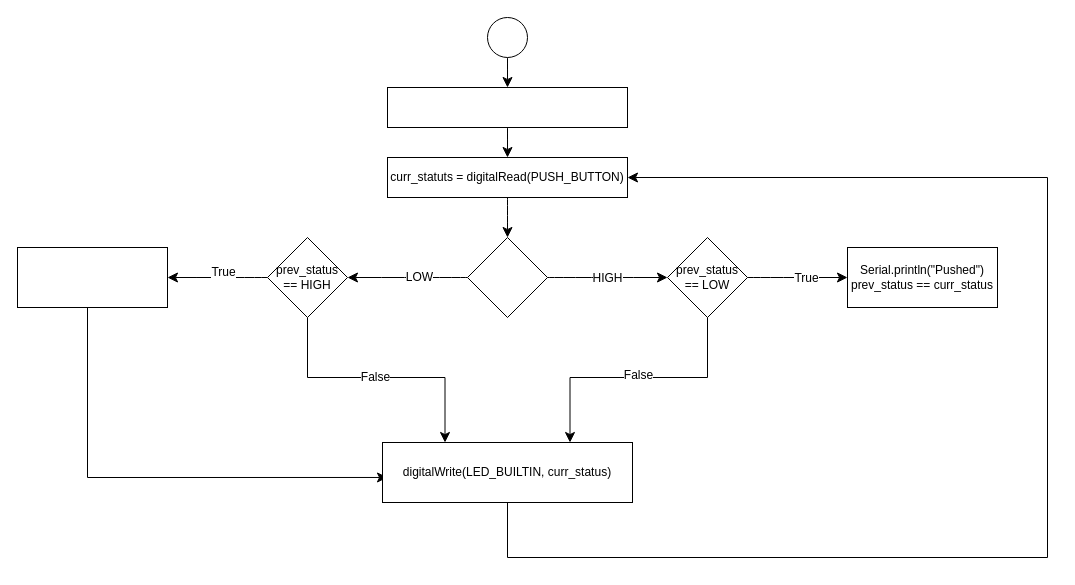
This 1075x585 diagram has some shape labels left out. The shapes that lost their labels are listed below. From the top down, each one's centre as x and y in pixels, then its label:
(x=507, y=107): prev_status = LOW
(x=92, y=277): Serial.println("---") prev_status == curr_status
(x=507, y=277): curr_status
